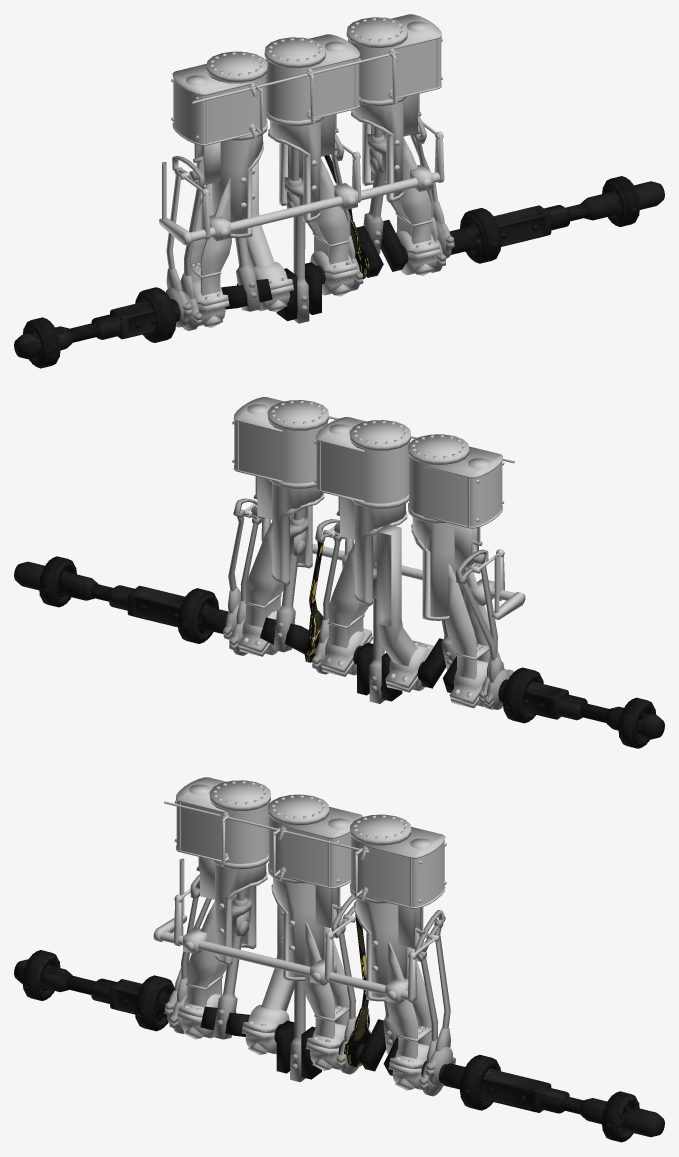
File: drivers.obj
The picture shows the model from 3 angles, top to bottom: view 1: azimuth 30°, elevation 25°; view 2: azimuth 150°, elevation 25°; view 3: azimuth 330°, elevation 25°; orthographic projection.
Parts seen in each view (by area): view 1: Cylinder.1413_Cylinder.1730, Tube.345_Tube.402, Cube.1331_Cube.1436, Cube.1338_Cube.1443, Cube.1330_Cube.1435, Cube.1337_Cube.1442, Cube.1336_Cube.1441, Tube.343_Tube.400, Cube.1335_Cube.1440, Tube.344_Tube.401, Cube.1332_Cube.1437, Cube.1333_Cube.1438 (+1 smaller); view 2: Cylinder.1413_Cylinder.1730, Tube.345_Tube.402, Cube.1331_Cube.1436, Cube.1336_Cube.1441, Cube.1332_Cube.1437, Cube.1335_Cube.1440, Cube.1333_Cube.1438, Cube.1334_Cube.1439, Cube.1338_Cube.1443, Cube.1330_Cube.1435, Tube.344_Tube.401; view 3: Cylinder.1413_Cylinder.1730, Tube.345_Tube.402, Cube.1335_Cube.1440, Cube.1332_Cube.1437, Cube.1337_Cube.1442, Cube.1338_Cube.1443, Cube.1333_Cube.1438, Cube.1334_Cube.1439, Cube.1330_Cube.1435, Tube.342_Tube.399, Cube.1331_Cube.1436.
Boxes of the visible parts, x1,y1,x2,y2 form: Cylinder.1413_Cylinder.1730: [159, 14, 444, 327]; Tube.345_Tube.402: [14, 176, 664, 368]; Cube.1331_Cube.1436: [165, 175, 192, 327]; Cube.1338_Cube.1443: [293, 215, 309, 323]; Cube.1330_Cube.1435: [180, 189, 201, 330]; Cube.1337_Cube.1442: [235, 237, 260, 311]; Cube.1336_Cube.1441: [363, 172, 386, 254]; Tube.343_Tube.400: [284, 147, 303, 216]; Cube.1335_Cube.1440: [410, 135, 454, 258]; Tube.344_Tube.401: [367, 127, 386, 173]; Cube.1332_Cube.1437: [324, 155, 370, 279]; Cube.1333_Cube.1438: [331, 156, 363, 290]; Cylinder.1413_Cylinder.1730: [232, 397, 525, 708]; Tube.345_Tube.402: [14, 556, 664, 748]; Cube.1331_Cube.1436: [460, 582, 513, 709]; Cube.1336_Cube.1441: [273, 555, 298, 652]; Cube.1332_Cube.1437: [304, 541, 323, 662]; Cube.1335_Cube.1440: [223, 516, 244, 639]; Cube.1333_Cube.1438: [312, 539, 340, 674]; Cube.1334_Cube.1439: [229, 522, 258, 655]; Cube.1338_Cube.1443: [369, 598, 385, 703]; Cube.1330_Cube.1435: [479, 566, 500, 709]; Tube.344_Tube.401: [290, 510, 308, 556]; Cylinder.1413_Cylinder.1730: [153, 777, 446, 1090]; Tube.345_Tube.402: [14, 950, 664, 1142]; Cube.1335_Cube.1440: [425, 927, 455, 1086]; Cube.1332_Cube.1437: [344, 914, 370, 1067]; Cube.1337_Cube.1442: [213, 935, 242, 1039]; Cube.1338_Cube.1443: [290, 981, 305, 1082]; Cube.1333_Cube.1438: [336, 933, 358, 1074]; Cube.1334_Cube.1439: [419, 958, 443, 1096]; Cube.1330_Cube.1435: [169, 897, 198, 1033]; Tube.342_Tube.399: [232, 890, 251, 936]; Cube.1331_Cube.1436: [164, 898, 211, 1023].
Bounding box in the file's own units: 3.49 × 1.4 × 0.4395.
